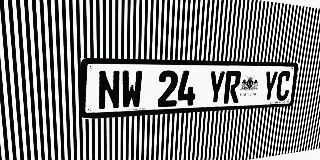2: (158, 70, 178, 107)
4: (177, 70, 197, 106)
C: (275, 71, 292, 101)
N: (98, 70, 120, 110)
R: (223, 71, 242, 104)
W: (121, 70, 143, 109)
Y: (207, 71, 226, 104), (261, 71, 279, 102)
